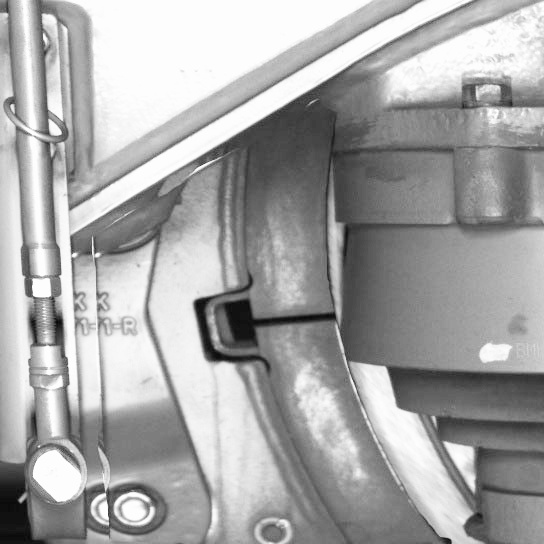ClosedKnifeSwitch: (255, 149, 453, 543)
